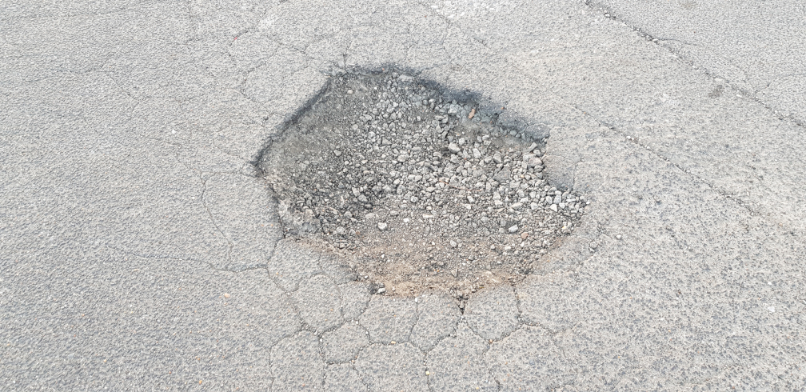pothole: (246, 56, 590, 307)
